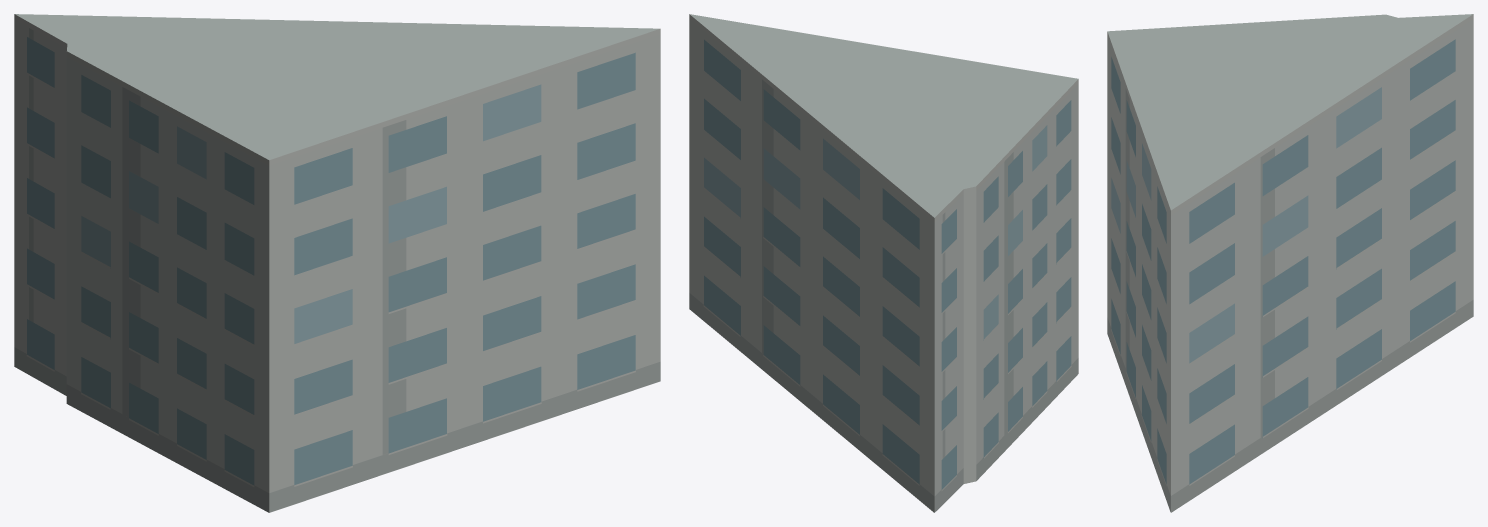
The model's file is survey-upis-32740758.glb.
3 views of the same model, side by side, from view 1: azimuth 30°, elevation 25°; view 2: azimuth 150°, elevation 25°; view 3: azimuth 270°, elevation 25° (orthographic). The views are drawn at different scales.
Parts seen in each view (by area): view 1: survey-upis-32740758.tmp; view 2: survey-upis-32740758.tmp; view 3: survey-upis-32740758.tmp.
Part boxes in pixels (bbox=[...]): survey-upis-32740758.tmp: bbox=[14, 14, 660, 512]; survey-upis-32740758.tmp: bbox=[689, 14, 1078, 512]; survey-upis-32740758.tmp: bbox=[1107, 14, 1473, 512].
Bounding box in the file's own units: 21.26 × 15.25 × 16.75.
